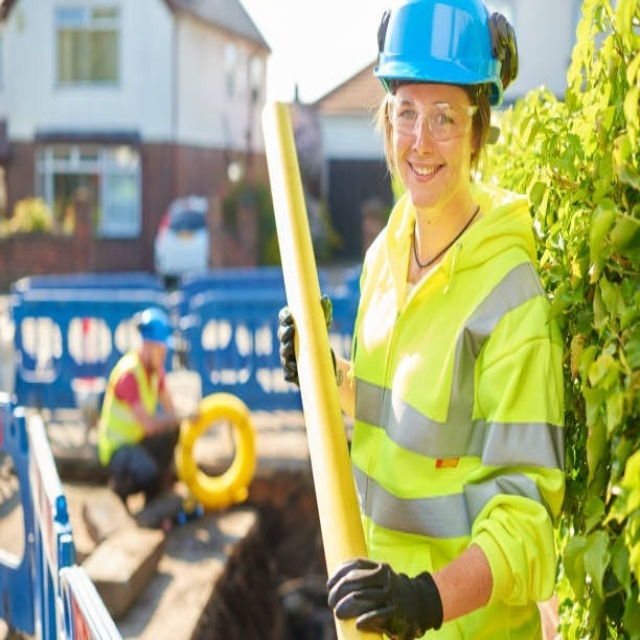Gafas: (384, 89, 481, 143)
Guantes: (328, 557, 440, 639), (277, 299, 335, 390)
Sin_mascara: (401, 147, 445, 195)
